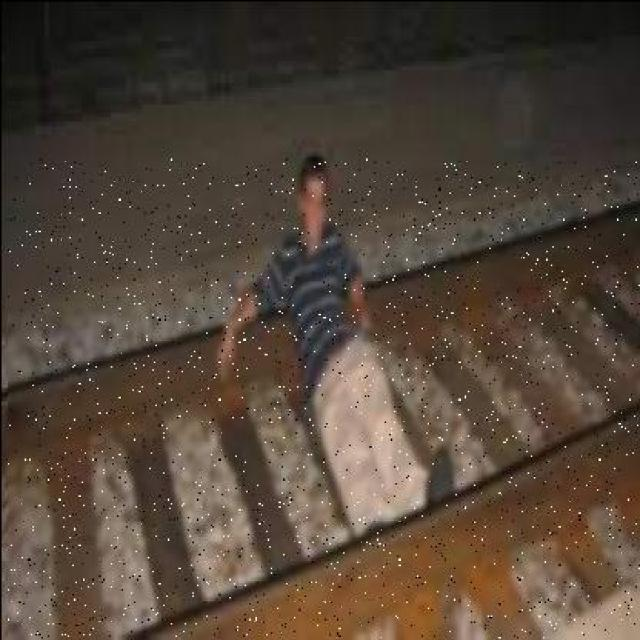danger: (234, 176, 448, 566)
rail: (6, 158, 640, 637)
